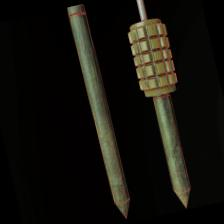POMZ2: (58, 0, 150, 221), (116, 0, 211, 213)
